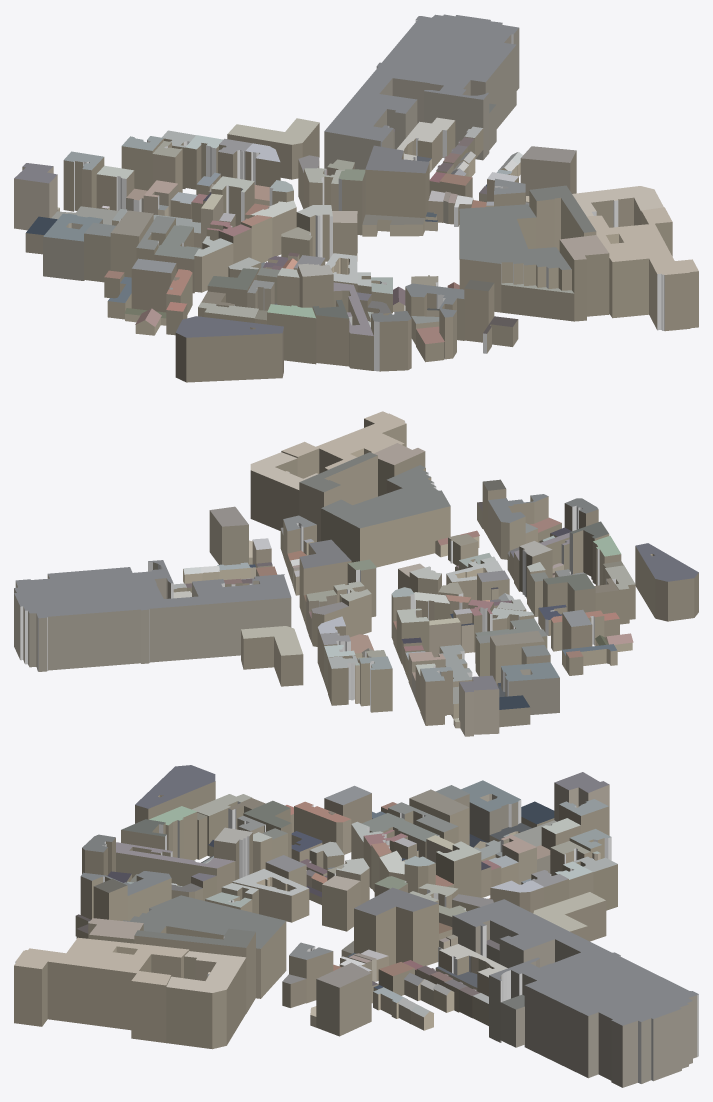
3 views of the same model, one above another, from view 1: azimuth 30°, elevation 25°; view 2: azimuth 150°, elevation 25°; view 3: azimuth 270°, elevation 25° (orthographic). The views are drawn at different scales.
Parts seen in each view (by area): view 1: tuile; view 2: tuile; view 3: tuile.
Part boxes in pixels (x1,y1,x2,y2): tuile: (14, 14, 698, 382); tuile: (14, 411, 698, 736); tuile: (14, 765, 698, 1087).
Bounding box in the file's own units: 315 × 41.13 × 329.
